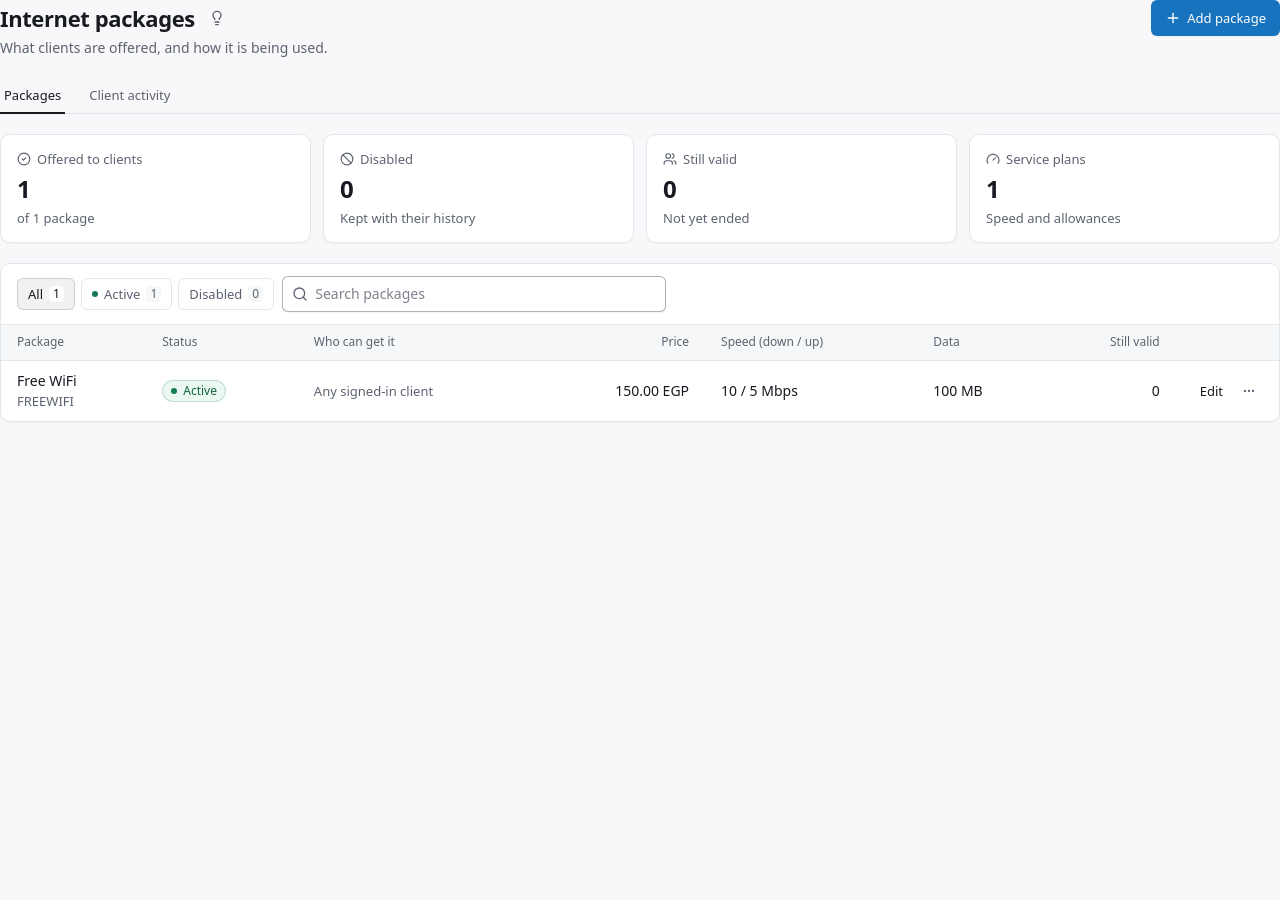
Test: InternetPackagesPage — packages › Edit hands the stored price, methods and room-charge mappings back, and reads a price refusal in words
Expected: the text "Free WiFi" is shown, [17,371,77,390]
Click the button "Edit" at (1211, 391), box [1192,377,1231,405]
(page scrolled)
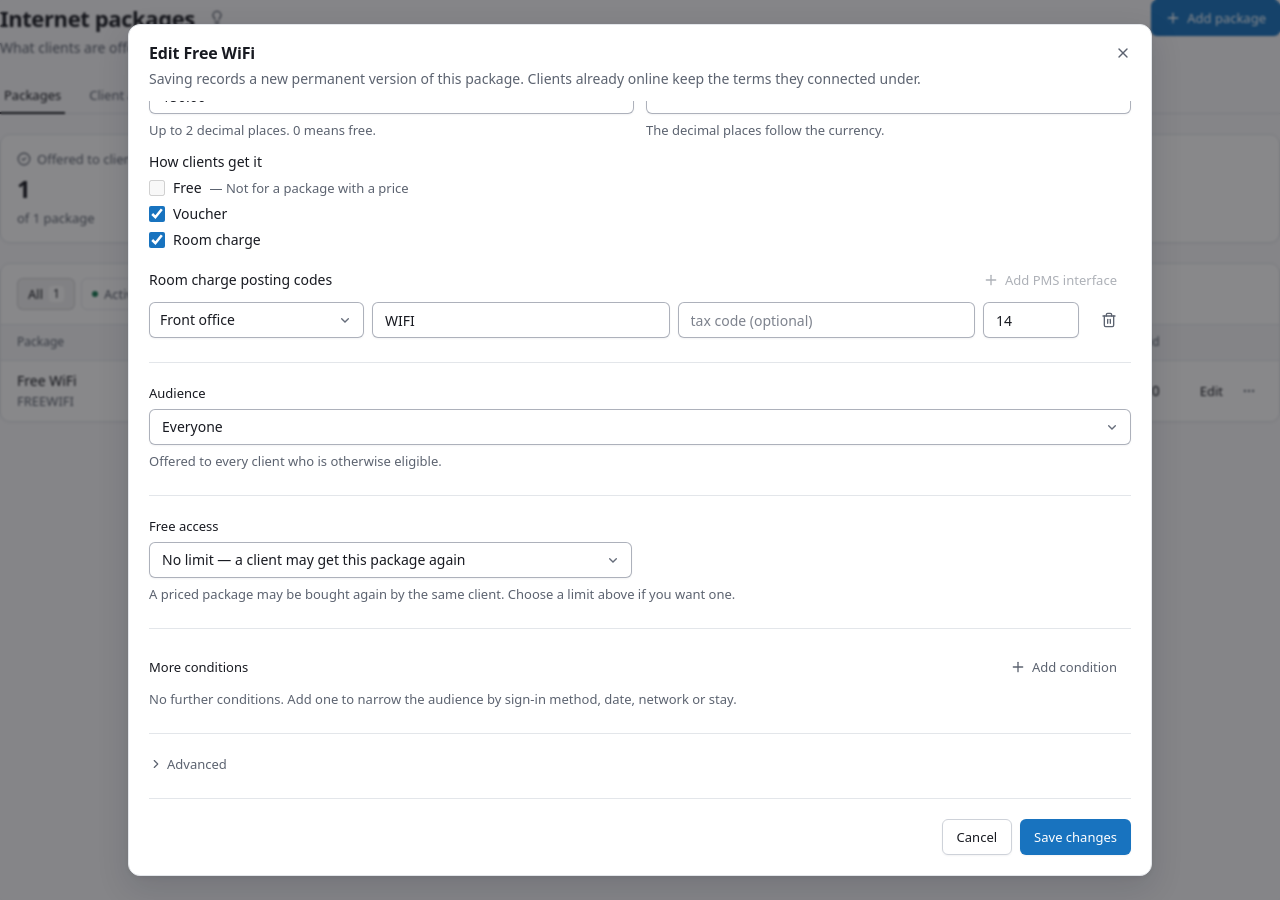
Result: the element with test id "room-charge-mappings" is shown at [149,262,1131,338]
Click the button "Save changes" at (1076, 837), box [1020,819,1131,855]
(page scrolled)
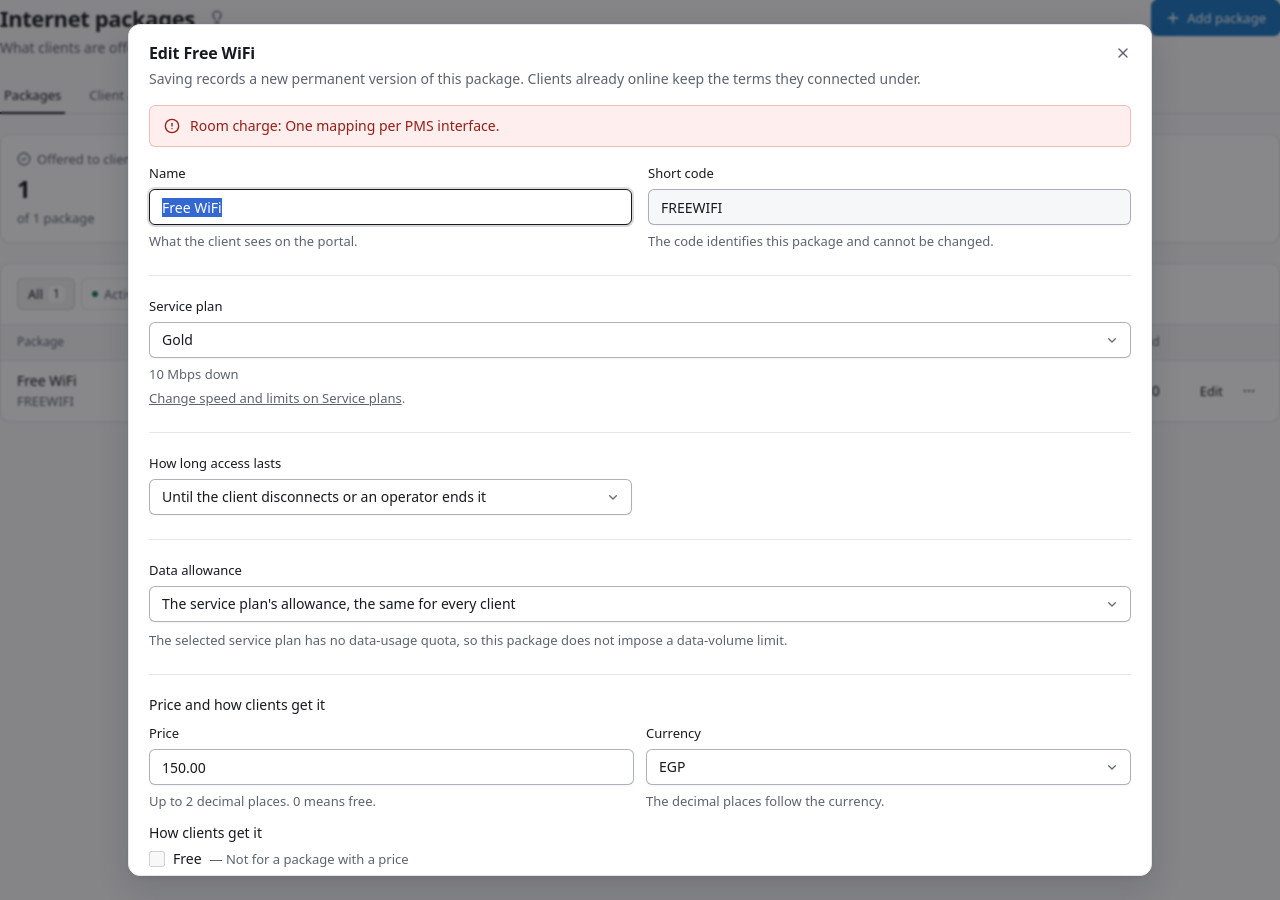
Result: the text "Room charge: One mapping per PMS interface." is shown at [190,116,499,136]
